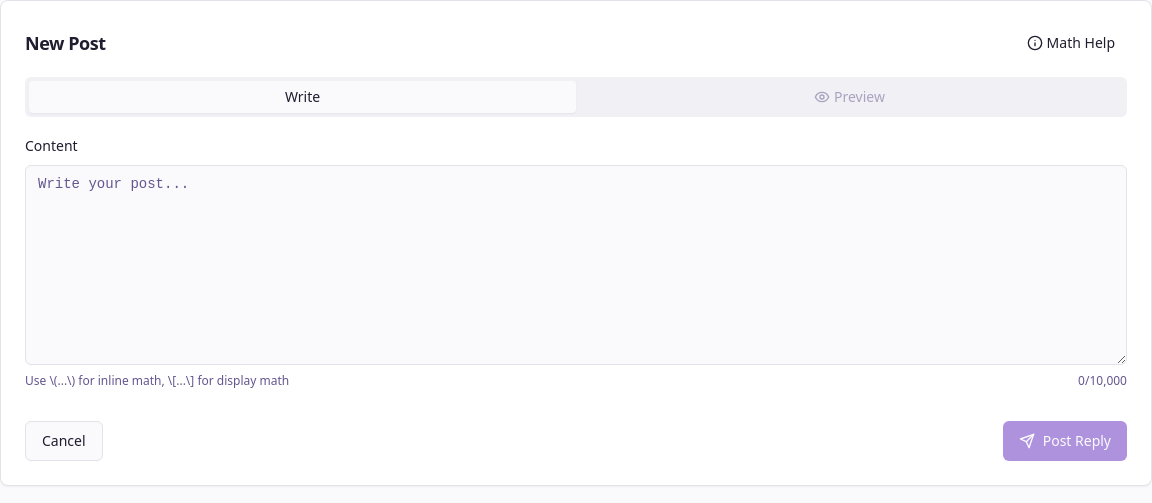
Scenario: PostComposer › shows loading state during submission
Type "Test content" into the text box with placeholder "Write your post...".
click(576, 265); type("Test content")  # box x1=25 y1=165 x2=1127 y2=365
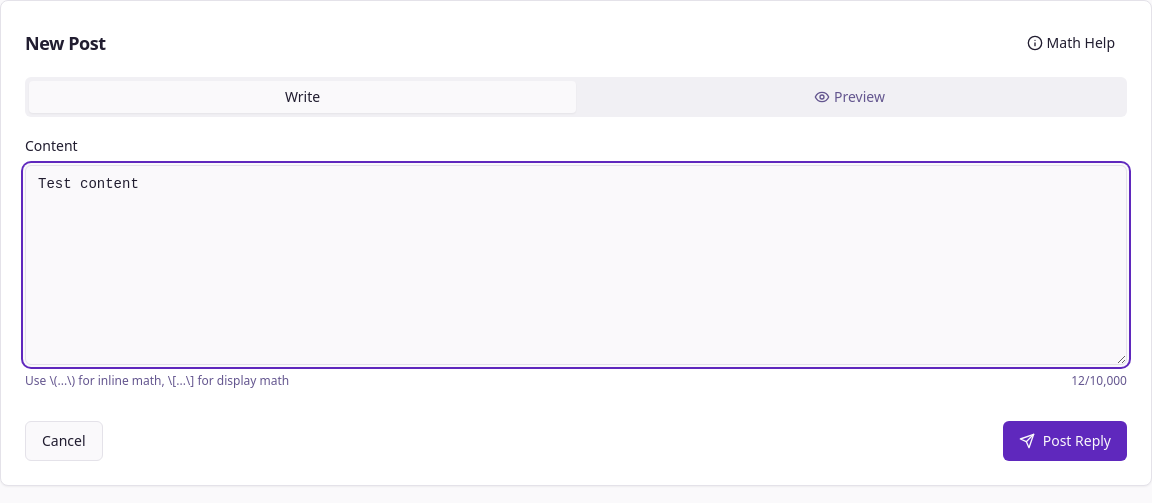
Now the button "Post Reply" is enabled
Click the button "Post Reply".
click(1065, 441)  # box x1=1003 y1=421 x2=1127 y2=461
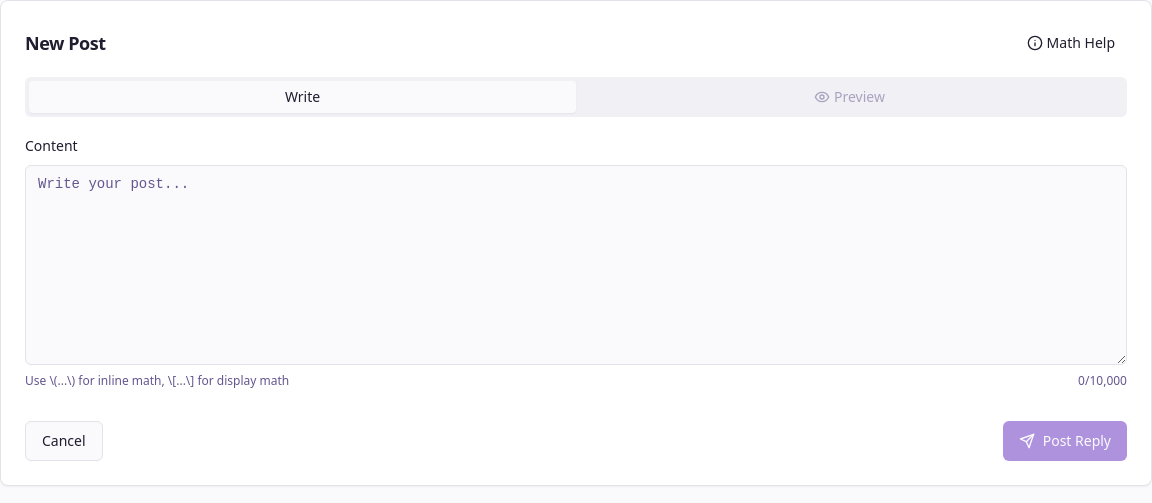
Now the button "Posting..." is disabled, box x1=1003 y1=421 x2=1127 y2=461
